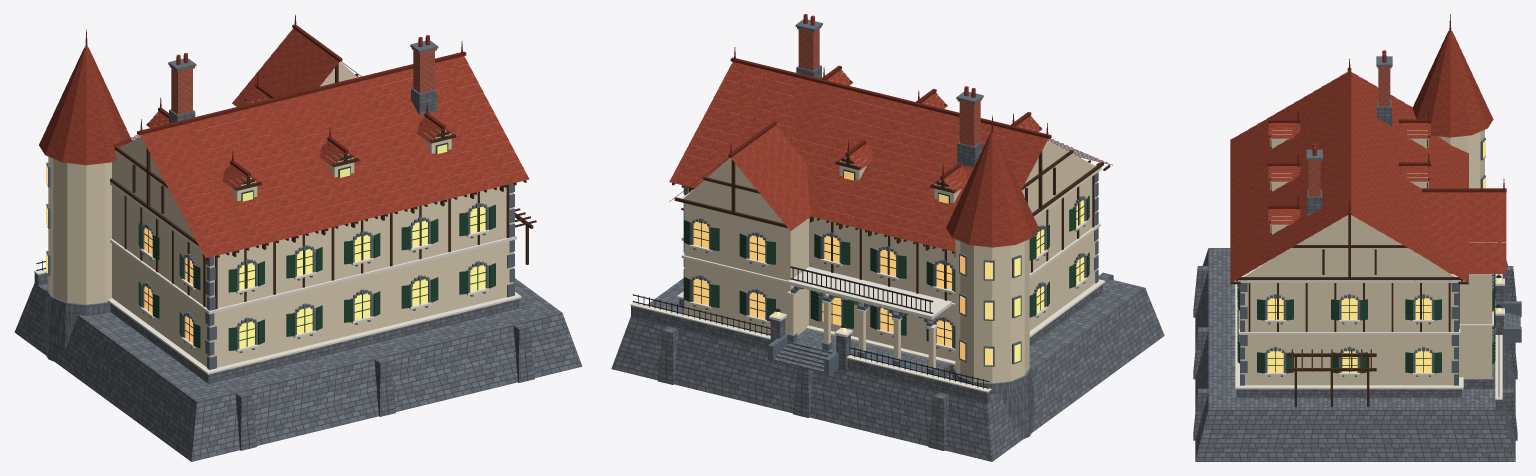
File: fv_tvv_01_trieu_viet_vuong_02_dinh3_gate_normandy_manor.glb
The picture shows the model from 3 angles, left to right: view 1: azimuth 30°, elevation 25°; view 2: azimuth 150°, elevation 25°; view 3: azimuth 270°, elevation 25°; orthographic projection. The views are drawn at different scales.
Parts seen in each view (by area): view 1: Normandy_Brittany_Layered_Roof, Foundation_Skirt_Neg3p5m, Villa_Stucco_Walls, PineGreen_Louvered_Shutters, Molded_Cornices_And_Sills, Stone_Quoins_And_Arches, Exposed_Timber_Trusses_And_Rafters, Warm_Night_Windows_20h00_Blend, Roof_Ridges_Caps_And_Finials, Brick_Chimney_Stacks; view 2: Foundation_Skirt_Neg3p5m, Normandy_Brittany_Layered_Roof, Villa_Stucco_Walls, Molded_Cornices_And_Sills, Stone_Quoins_And_Arches, PineGreen_Louvered_Shutters, Warm_Night_Windows_20h00_Blend, Exposed_Timber_Trusses_And_Rafters, Roof_Ridges_Caps_And_Finials, Wrought_Iron_Balustrades_And_Gate, Brick_Chimney_Stacks; view 3: Normandy_Brittany_Layered_Roof, Foundation_Skirt_Neg3p5m, Villa_Stucco_Walls, Molded_Cornices_And_Sills, Exposed_Timber_Trusses_And_Rafters, Stone_Quoins_And_Arches, PineGreen_Louvered_Shutters, Warm_Night_Windows_20h00_Blend, Roof_Ridges_Caps_And_Finials, Brick_Chimney_Stacks.
Part boxes in pixels (x1,y1,x2,y2): Normandy_Brittany_Layered_Roof: [39, 28, 529, 258]; Foundation_Skirt_Neg3p5m: [14, 88, 582, 461]; Villa_Stucco_Walls: [48, 61, 513, 367]; PineGreen_Louvered_Shutters: [138, 142, 495, 350]; Molded_Cornices_And_Sills: [34, 98, 521, 374]; Stone_Quoins_And_Arches: [46, 40, 514, 369]; Exposed_Timber_Trusses_And_Rafters: [110, 64, 536, 308]; Warm_Night_Windows_20h00_Blend: [46, 144, 485, 348]; Roof_Ridges_Caps_And_Finials: [85, 14, 466, 184]; Brick_Chimney_Stacks: [169, 48, 436, 114]; Foundation_Skirt_Neg3p5m: [611, 65, 1164, 461]; Normandy_Brittany_Layered_Roof: [669, 14, 1047, 251]; Villa_Stucco_Walls: [683, 140, 1097, 383]; Molded_Cornices_And_Sills: [630, 80, 1105, 392]; Stone_Quoins_And_Arches: [683, 19, 1098, 374]; PineGreen_Louvered_Shutters: [683, 169, 1089, 348]; Warm_Night_Windows_20h00_Blend: [693, 171, 1084, 365]; Exposed_Timber_Trusses_And_Rafters: [672, 70, 1110, 300]; Roof_Ridges_Caps_And_Finials: [669, 47, 1112, 201]; Wrought_Iron_Balustrades_And_Gate: [632, 266, 989, 388]; Brick_Chimney_Stacks: [797, 26, 982, 146]; Normandy_Brittany_Layered_Roof: [1230, 31, 1506, 282]; Foundation_Skirt_Neg3p5m: [1193, 99, 1520, 461]; Villa_Stucco_Walls: [1240, 130, 1492, 385]; Molded_Cornices_And_Sills: [1235, 130, 1504, 399]; Exposed_Timber_Trusses_And_Rafters: [1230, 123, 1500, 406]; Stone_Quoins_And_Arches: [1238, 56, 1521, 385]; PineGreen_Louvered_Shutters: [1237, 139, 1495, 373]; Warm_Night_Windows_20h00_Blend: [1267, 139, 1500, 372]; Roof_Ridges_Caps_And_Finials: [1268, 14, 1506, 214]; Brick_Chimney_Stacks: [1307, 66, 1391, 196].
Bounding box in the file's own units: 28.72 × 21.83 × 22.32.
Materials: 12 (3 with a texture image).
